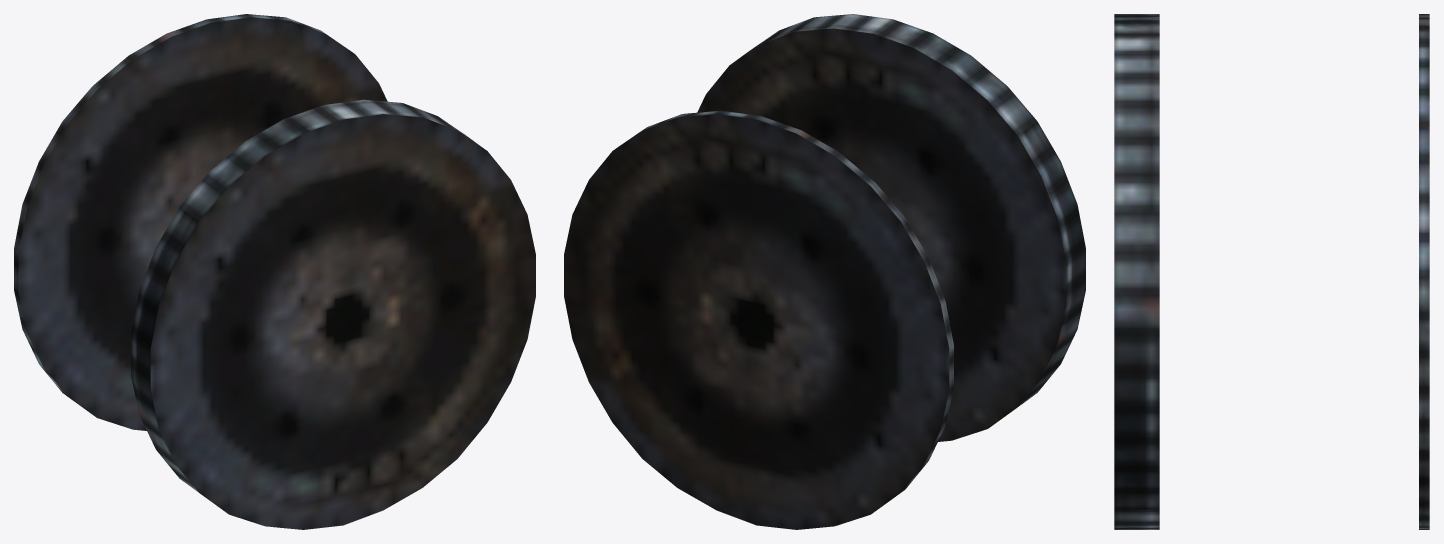
File: prujmeh.obj
3 renders of one model, left to right at view 1: azimuth 30°, elevation 25°; view 2: azimuth 150°, elevation 25°; view 3: azimuth 270°, elevation 25°, orthographic. The views are drawn at different scales.
Parts seen in each view (by area): view 1: wpn34_gatling; view 2: wpn34_gatling; view 3: wpn34_gatling.
Boxes of the visible parts, left/top/right/bottom form: wpn34_gatling: left=14, top=14, right=535, bottom=529; wpn34_gatling: left=564, top=14, right=1085, bottom=529; wpn34_gatling: left=1114, top=14, right=1429, bottom=529.
Bounding box in the file's own units: 0.1376 × 0.1386 × 0.0846.
Materials: 1 (1 with a texture image).
